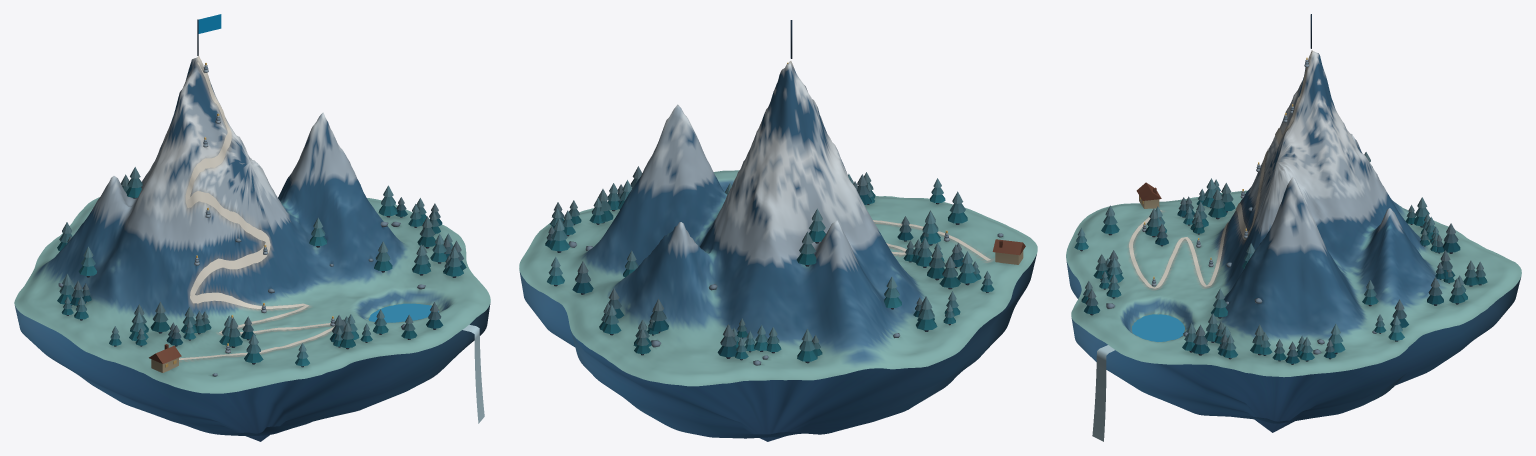
Rendered from summit.glb.
3 views of the same model, side by side, from view 1: azimuth 30°, elevation 25°; view 2: azimuth 150°, elevation 25°; view 3: azimuth 270°, elevation 25° (orthographic). The views are drawn at different scales.
Parts seen in each view (by area): view 1: island, underside, pines, trail, lake, waterfall, cabin; view 2: island, underside, pines, cabin; view 3: island, underside, pines, trail, lake, waterfall, cabin.
Part boxes in pixels (left/top/right/bottom): island: left=14, top=57, right=490, bottom=393; underside: left=15, top=303, right=490, bottom=441; pines: left=57, top=167, right=466, bottom=367; trail: left=179, top=55, right=334, bottom=359; lake: left=368, top=303, right=438, bottom=322; waterfall: left=462, top=324, right=484, bottom=423; cabin: left=149, top=344, right=181, bottom=372; island: left=519, top=61, right=1037, bottom=386; underside: left=519, top=254, right=1036, bottom=441; pines: left=545, top=166, right=994, bottom=363; cabin: left=992, top=239, right=1025, bottom=264; island: left=1066, top=50, right=1521, bottom=377; underside: left=1066, top=261, right=1520, bottom=432; pines: left=1074, top=152, right=1487, bottom=364; trail: left=1129, top=51, right=1312, bottom=288; lake: left=1132, top=314, right=1184, bottom=341; waterfall: left=1092, top=345, right=1114, bottom=441; cabin: left=1136, top=182, right=1161, bottom=208.
Bounding box in the file's own units: 4.99 × 4.88 × 5.06.
